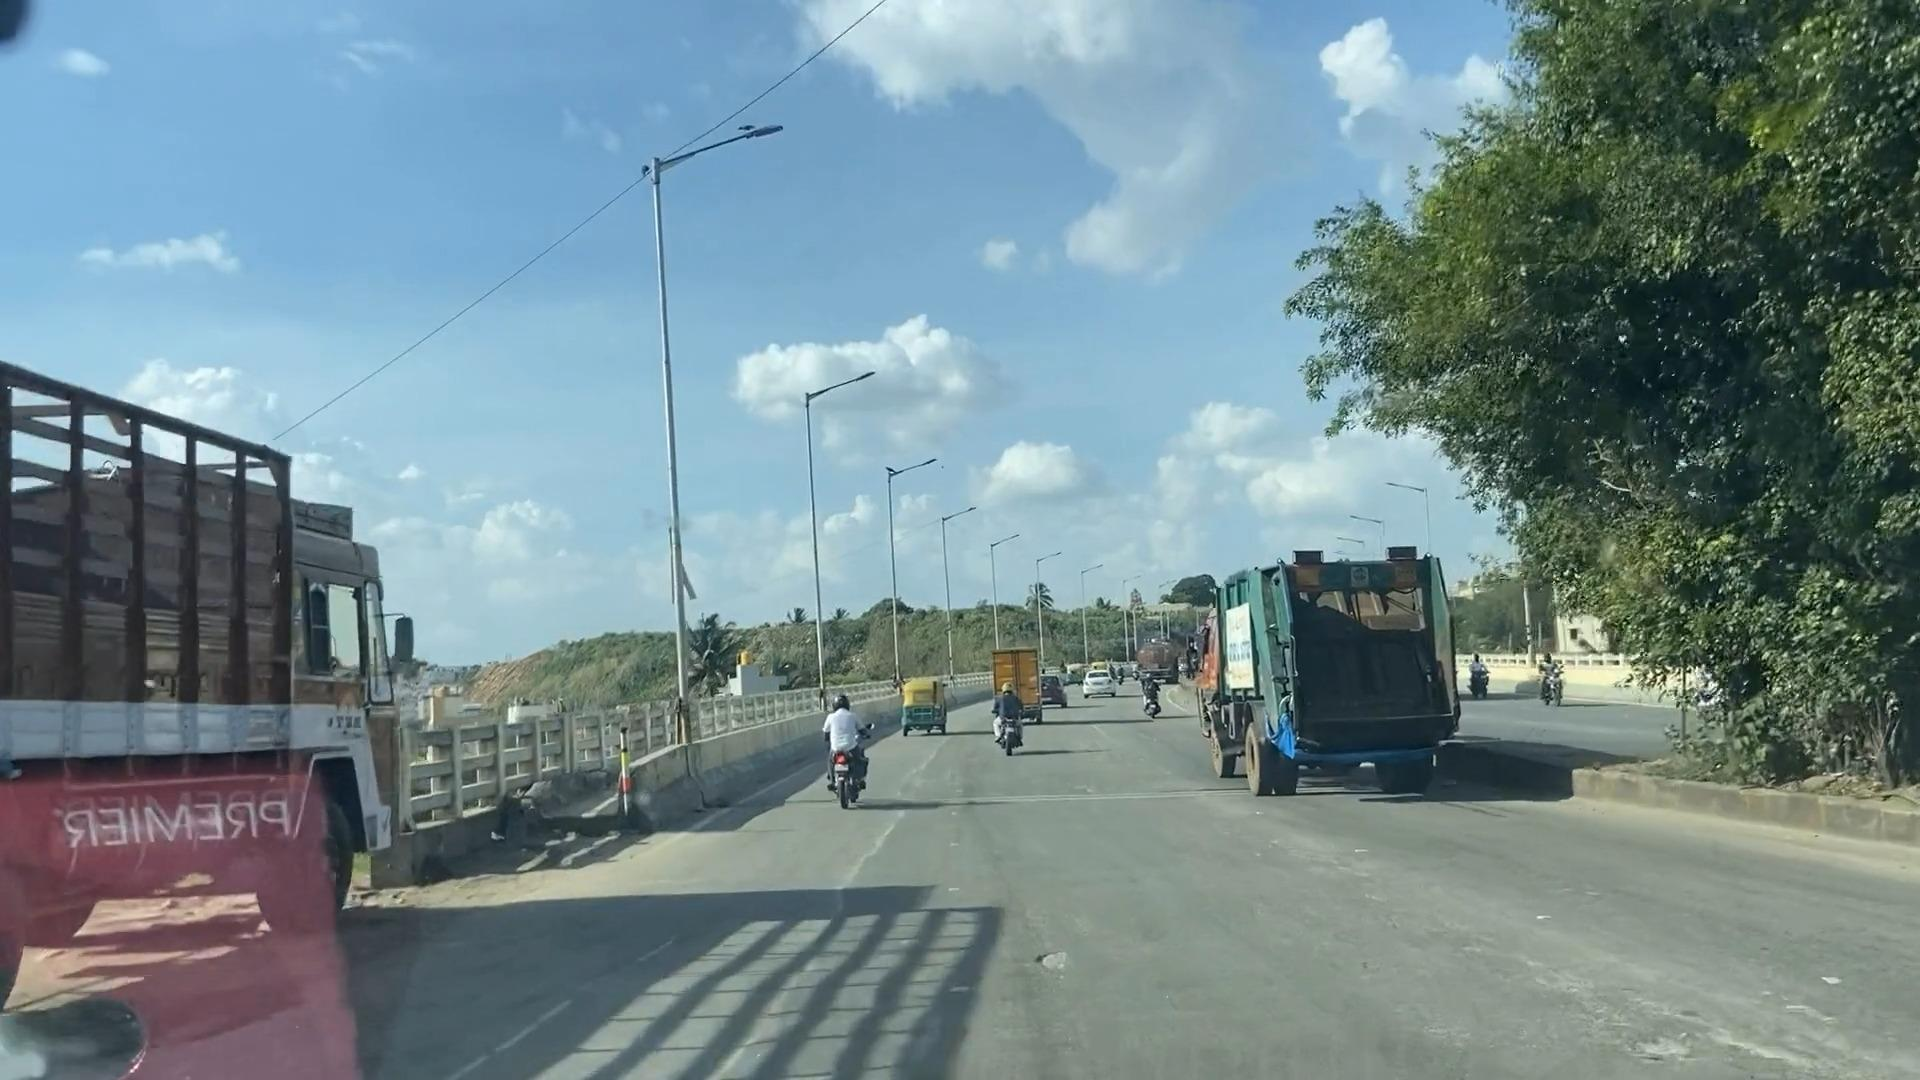HMV: (0, 336, 483, 988), (1156, 508, 1468, 807)
RoadDamages: (967, 910, 1094, 1004)
